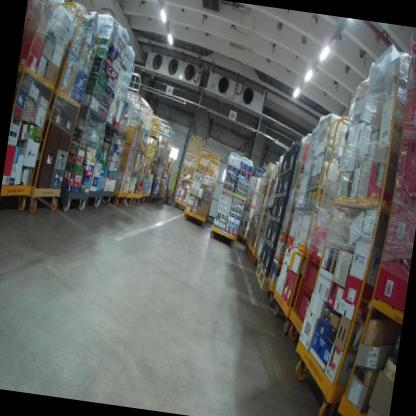small_load_carrier: (367, 240, 413, 315), (379, 183, 416, 260), (388, 131, 416, 194), (291, 280, 317, 324), (398, 81, 416, 141), (300, 252, 324, 292), (403, 29, 416, 93)
